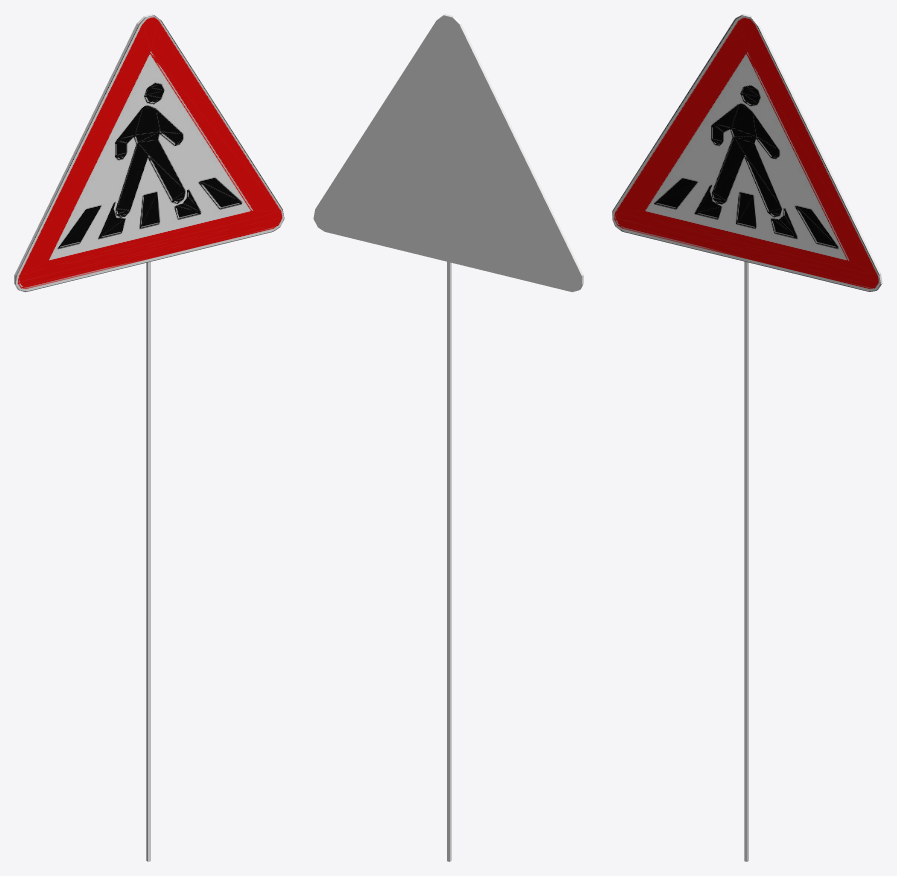
The model's file is trafik_levha_yaya_gecidi.obj.
3 views of the same model, side by side, from view 1: azimuth 30°, elevation 25°; view 2: azimuth 150°, elevation 25°; view 3: azimuth 330°, elevation 25° (orthographic).
Visible parts, largest first — view 1: Mesh2 Group3 Group1 Model, Mesh1 Group2 Group1 Model; view 2: Mesh2 Group3 Group1 Model, Mesh1 Group2 Group1 Model; view 3: Mesh2 Group3 Group1 Model, Mesh1 Group2 Group1 Model.
Boxes of the visible parts, box(x1,y1,x2,y2) form: Mesh2 Group3 Group1 Model: box(14, 14, 284, 292); Mesh1 Group2 Group1 Model: box(146, 261, 150, 861); Mesh2 Group3 Group1 Model: box(313, 14, 583, 292); Mesh1 Group2 Group1 Model: box(447, 261, 451, 861); Mesh2 Group3 Group1 Model: box(612, 14, 882, 291); Mesh1 Group2 Group1 Model: box(744, 261, 748, 861).
Size of the model in its own units: 937 by 2819 by 10.
3 materials, 1 textured.
